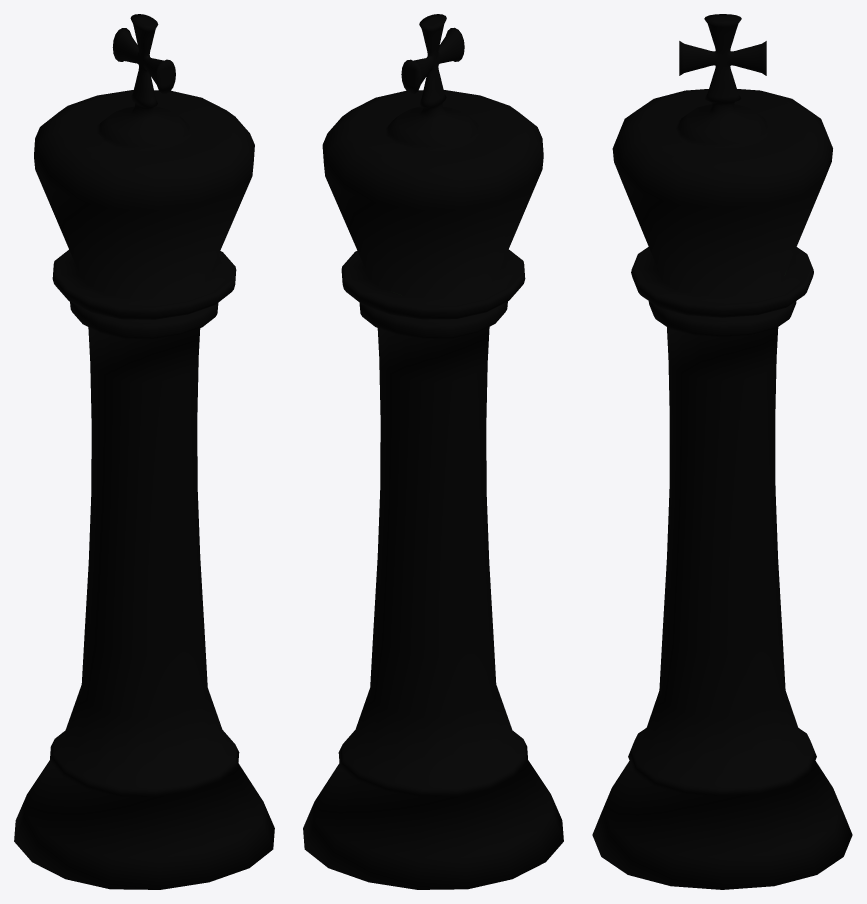
Rendered from Rai.fbx.
3 views of the same model, side by side, from view 1: azimuth 30°, elevation 25°; view 2: azimuth 150°, elevation 25°; view 3: azimuth 270°, elevation 25° (orthographic).
Visible parts, largest first — view 1: Cube; view 2: Cube; view 3: Cube.
Part boxes in pixels (x1=…): Cube: x1=14, y1=14, x2=274, y2=889; Cube: x1=303, y1=14, x2=563, y2=889; Cube: x1=592, y1=14, x2=852, y2=889.
Bounding box in the file's own units: 138 × 476 × 138.
